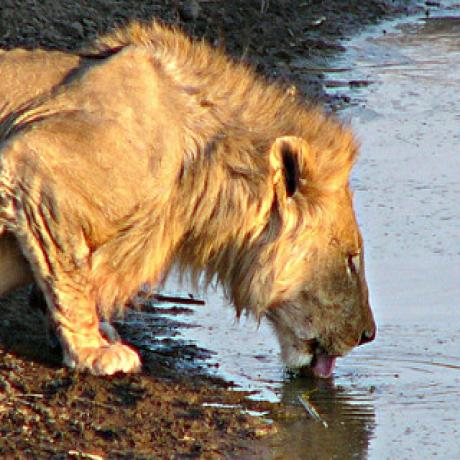Lion: (3, 20, 377, 379)
